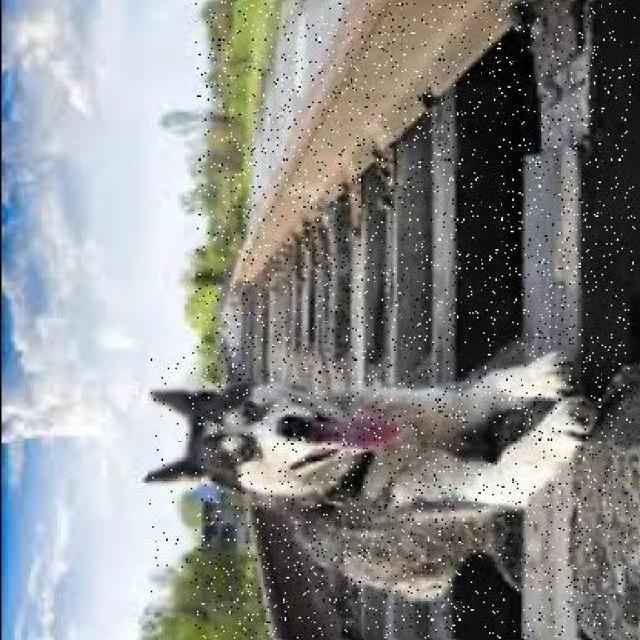danger: (147, 343, 593, 612)
rail: (195, 3, 634, 638)
